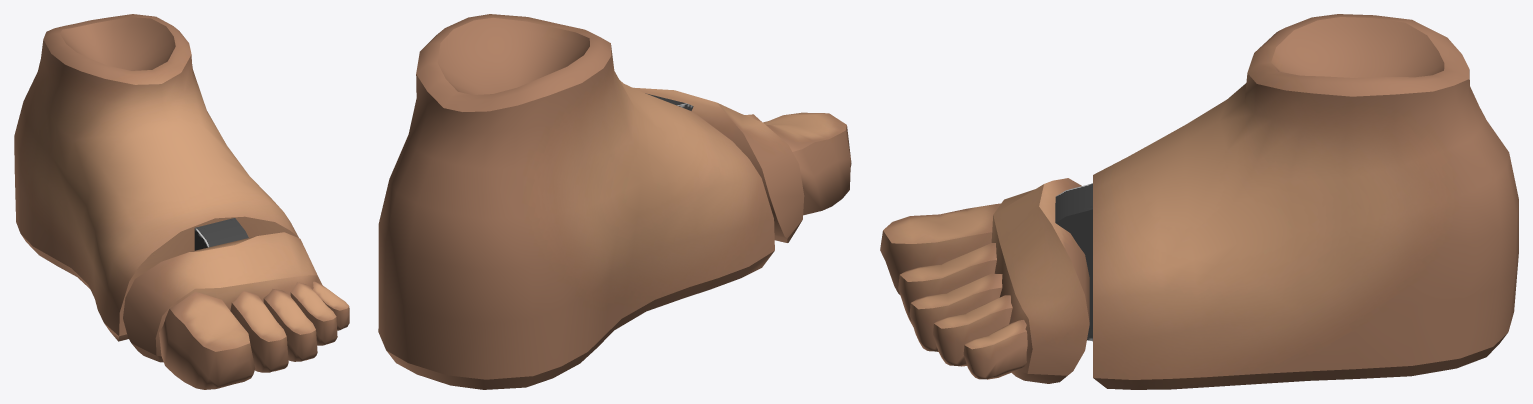
Rendered from footL.fbx.
3 views of the same model, side by side, from view 1: azimuth 30°, elevation 25°; view 2: azimuth 150°, elevation 25°; view 3: azimuth 270°, elevation 25° (orthographic). The views are drawn at different scales.
Parts seen in each view (by area): view 1: matte_0.004, matte_1.008; view 2: matte_0.004, matte_1.008; view 3: matte_0.004, matte_1.008.
Boxes of the visible parts, left/top/right/bottom form: matte_0.004: left=14, top=14, right=298, bottom=341; matte_1.008: left=123, top=232, right=349, bottom=389; matte_0.004: left=378, top=14, right=774, bottom=389; matte_1.008: left=633, top=87, right=851, bottom=242; matte_0.004: left=1055, top=14, right=1518, bottom=389; matte_1.008: left=880, top=178, right=1089, bottom=383.
Size of the model in its own units: 374 by 802 by 394.
